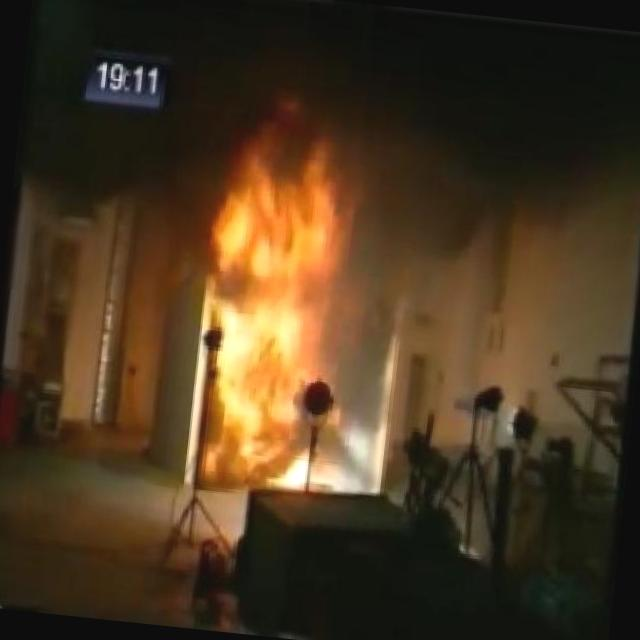fire: (185, 129, 382, 482)
smoke: (15, 0, 640, 225)
